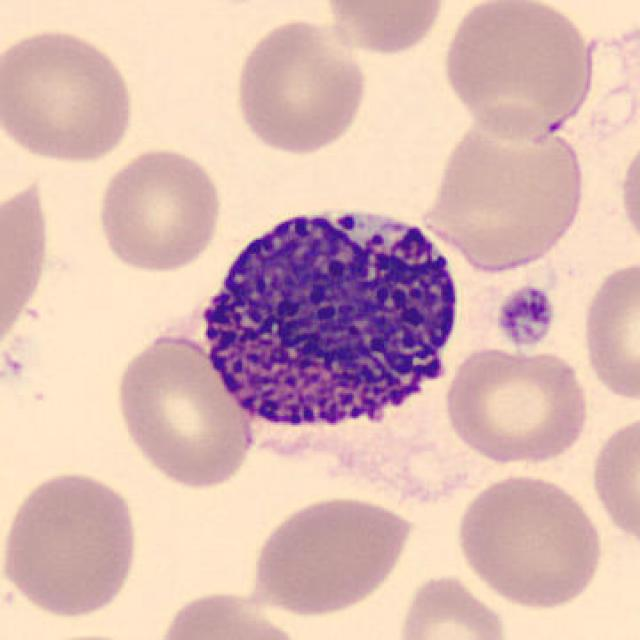Basophil: (185, 187, 471, 474)
Platelets: (494, 282, 558, 351)
RBC: (420, 116, 588, 274), (110, 330, 258, 493), (438, 0, 598, 143), (0, 466, 144, 622), (247, 490, 418, 619), (452, 469, 606, 612), (231, 14, 372, 159), (2, 23, 138, 166), (441, 344, 594, 467), (92, 143, 226, 275), (0, 168, 55, 360), (578, 255, 638, 406), (153, 585, 311, 640), (393, 569, 512, 640), (318, 0, 450, 58), (587, 409, 638, 550), (615, 130, 640, 258), (9, 627, 167, 640)
